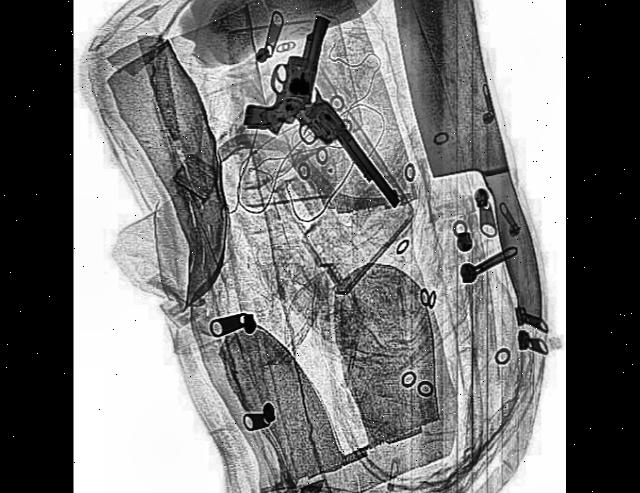Gun: (280, 75, 407, 230), (240, 0, 342, 160)
Knife: (382, 0, 551, 355)
